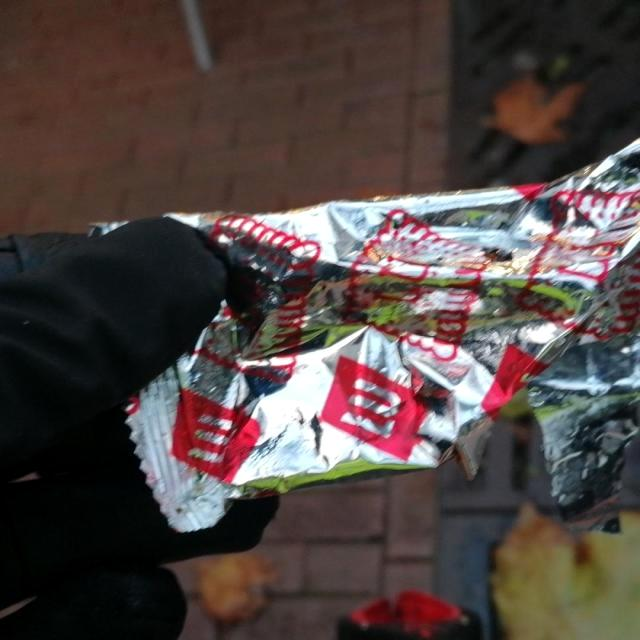Plastic: (85, 133, 640, 537)
